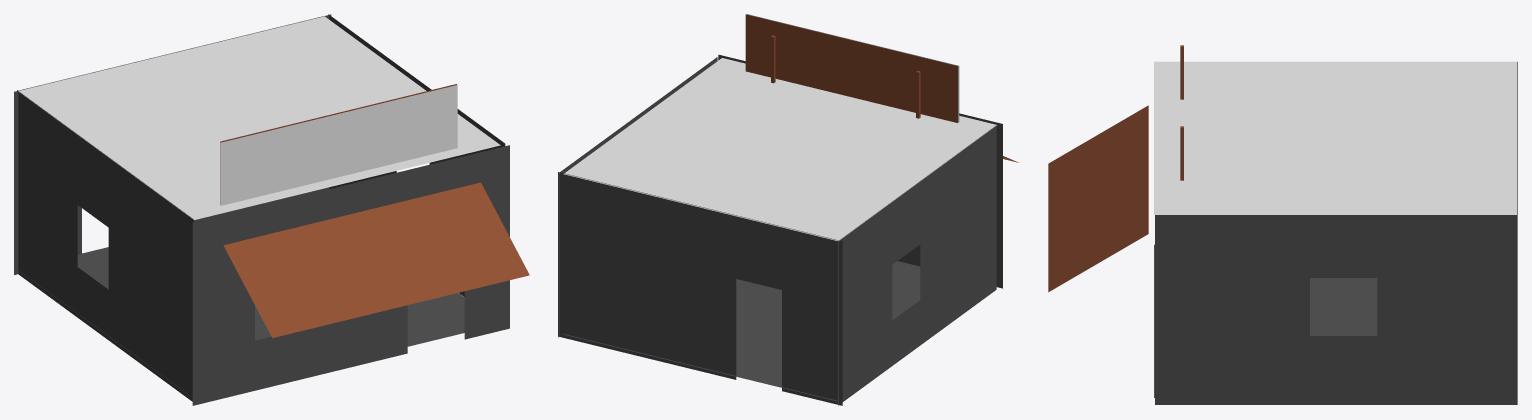
File: lowPolyHouse1.glb
3 renders of one model, left to right at view 1: azimuth 30°, elevation 25°; view 2: azimuth 150°, elevation 25°; view 3: azimuth 270°, elevation 25°, orthographic. The views are drawn at different scales.
Visible parts, largest first — view 1: top-plane, left-plane, front-plane, top-plane.001, signage-front, bot-plane, back-plane, right-plane, signage; view 2: back-plane, top-plane, left-plane, signage, bot-plane, front-plane, right-plane; view 3: right-plane, top-plane, top-plane.001, bot-plane, left-plane, signage.
Boxes of the visible parts, x1,y1,x2,y2 form: top-plane: (18,16,500,219); left-plane: (17,90,193,401); front-plane: (192,145,509,405); top-plane.001: (223,182,529,337); signage-front: (220,85,457,205); bot-plane: (18,247,464,397); back-plane: (14,14,331,274); right-plane: (328,14,505,296); signage: (220,84,456,204); back-plane: (558,172,842,405); top-plane: (563,58,996,240); left-plane: (838,125,996,405); signage: (745,14,957,122); bot-plane: (563,261,996,401); front-plane: (718,54,1002,288); right-plane: (558,57,717,337); right-plane: (1155,217,1517,404); top-plane: (1154,61,1516,214); top-plane.001: (1048,105,1148,292); bot-plane: (1154,244,1377,397); left-plane: (1155,61,1517,216); signage: (1180,45,1183,180).
Bounding box in the file's own units: 7.11 × 5.28 × 8.89.
